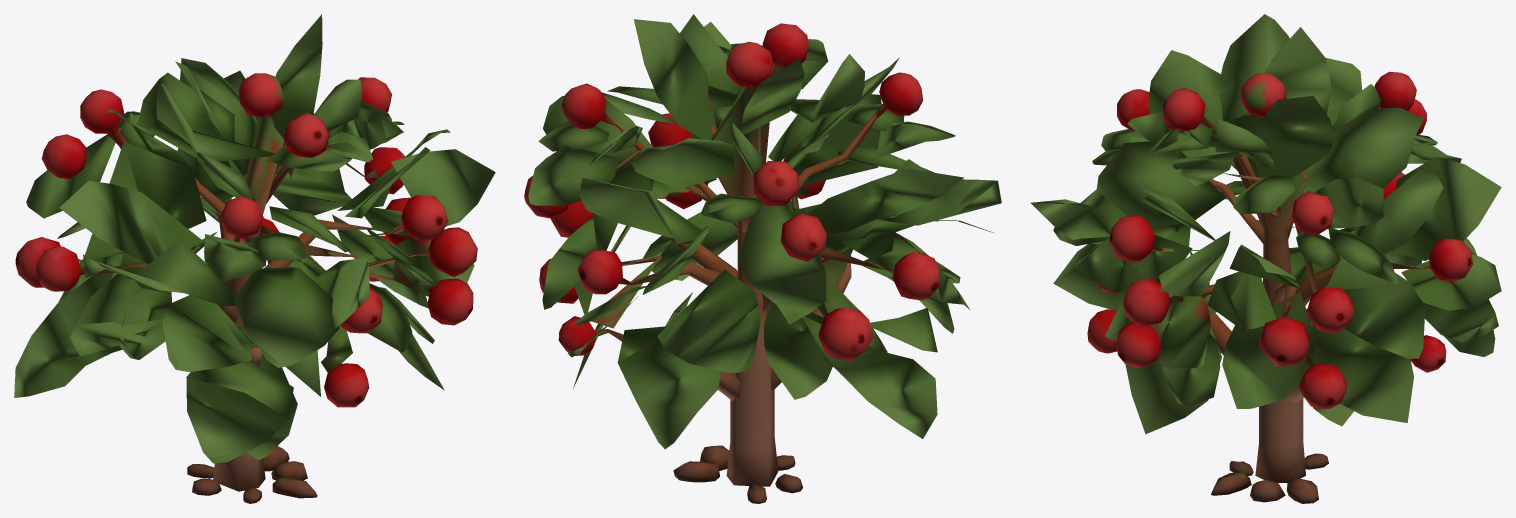
File: resource-berry.glb
3 renders of one model, left to right at view 1: azimuth 30°, elevation 25°; view 2: azimuth 150°, elevation 25°; view 3: azimuth 270°, elevation 25°, orthographic. The views are drawn at different scales.
Parts seen in each view (by area): view 1: tripo_node_c31ab7c5-53c2-47a9-bcd9-11f60b3ea482; view 2: tripo_node_c31ab7c5-53c2-47a9-bcd9-11f60b3ea482; view 3: tripo_node_c31ab7c5-53c2-47a9-bcd9-11f60b3ea482.
Boxes of the visible parts, x1,y1,x2,y2 form: tripo_node_c31ab7c5-53c2-47a9-bcd9-11f60b3ea482: (14, 14, 495, 503); tripo_node_c31ab7c5-53c2-47a9-bcd9-11f60b3ea482: (524, 14, 1001, 503); tripo_node_c31ab7c5-53c2-47a9-bcd9-11f60b3ea482: (1030, 14, 1501, 503).
Size of the model in its own units: 0.998 by 0.998 by 0.998.
Materials: 1 (1 with a texture image).
